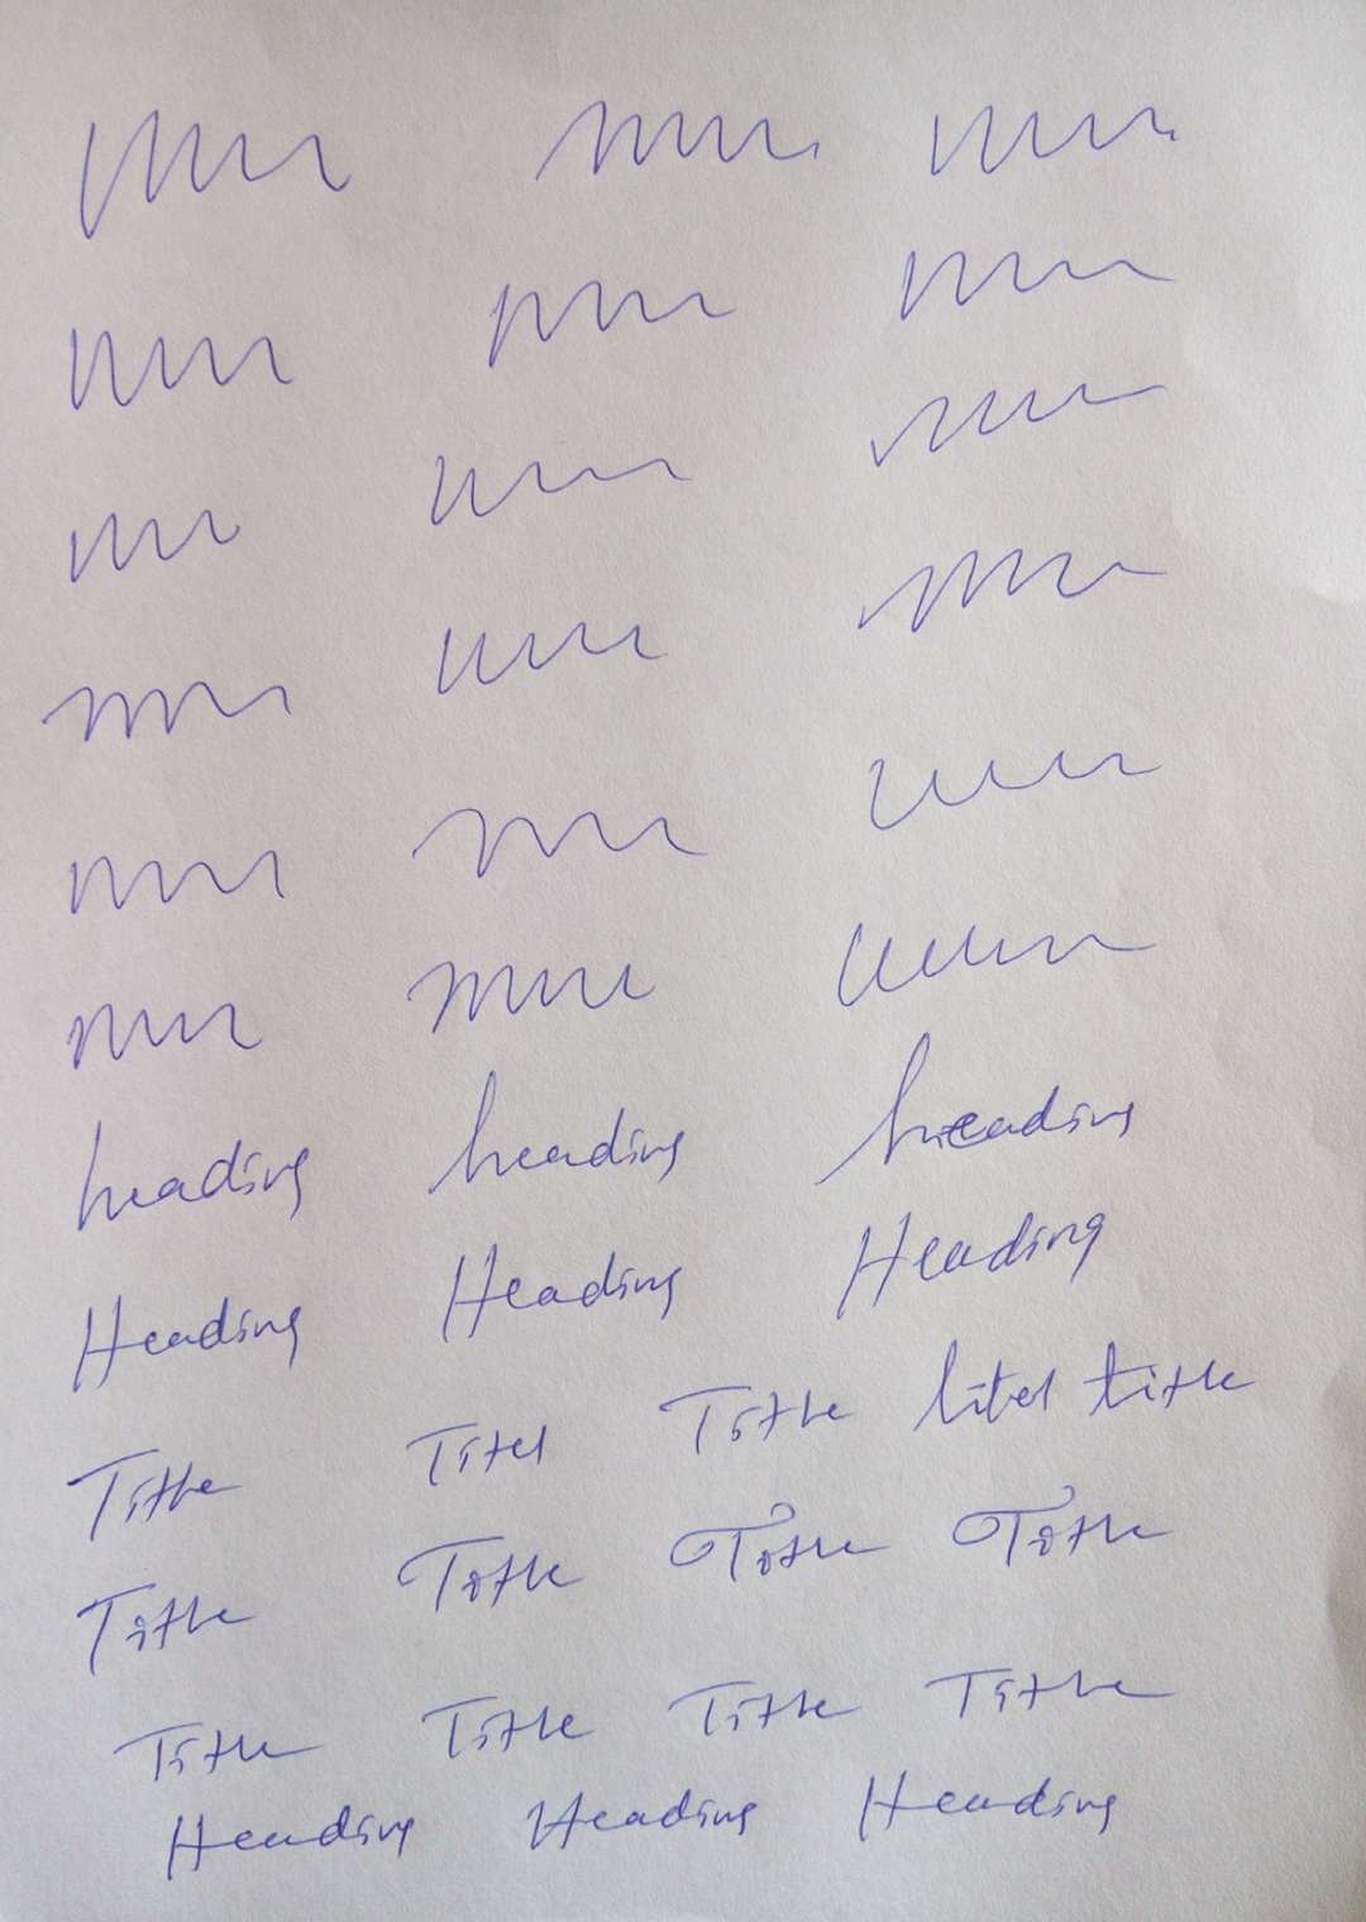Heading: (806, 1028, 1146, 1196), (74, 105, 359, 245), (843, 531, 1186, 643), (424, 1066, 689, 1205), (840, 1190, 1115, 1322), (826, 911, 1156, 1016), (526, 99, 835, 208), (59, 1277, 315, 1405), (404, 792, 713, 890), (68, 1113, 315, 1235), (160, 1785, 424, 1889), (439, 1237, 686, 1345), (852, 1761, 1132, 1855), (478, 269, 739, 370), (888, 234, 1174, 325), (41, 661, 306, 750), (668, 1496, 894, 1600), (526, 1770, 755, 1872), (65, 322, 302, 418), (68, 1572, 256, 1687), (930, 1651, 1180, 1737), (939, 1481, 1168, 1572), (59, 1437, 239, 1546), (112, 1705, 315, 1796), (392, 1535, 594, 1625), (653, 1372, 853, 1461), (906, 1334, 1067, 1437), (659, 1672, 865, 1746), (410, 1690, 599, 1770), (1084, 1337, 1245, 1419), (392, 1413, 556, 1490)
